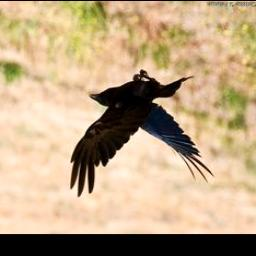Crow: (67, 69, 217, 200)
